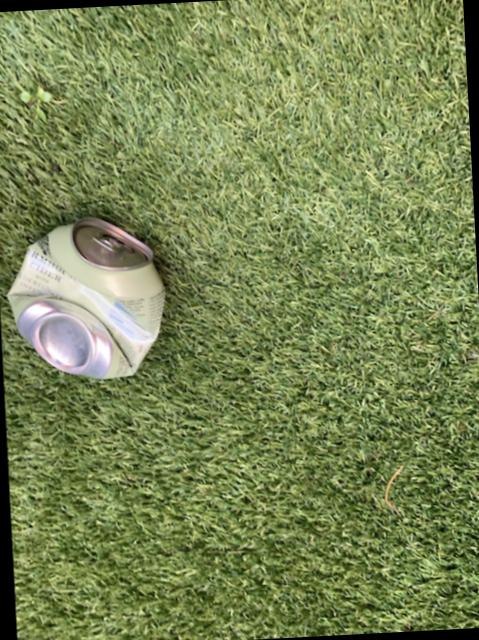metal: (9, 220, 165, 373)
